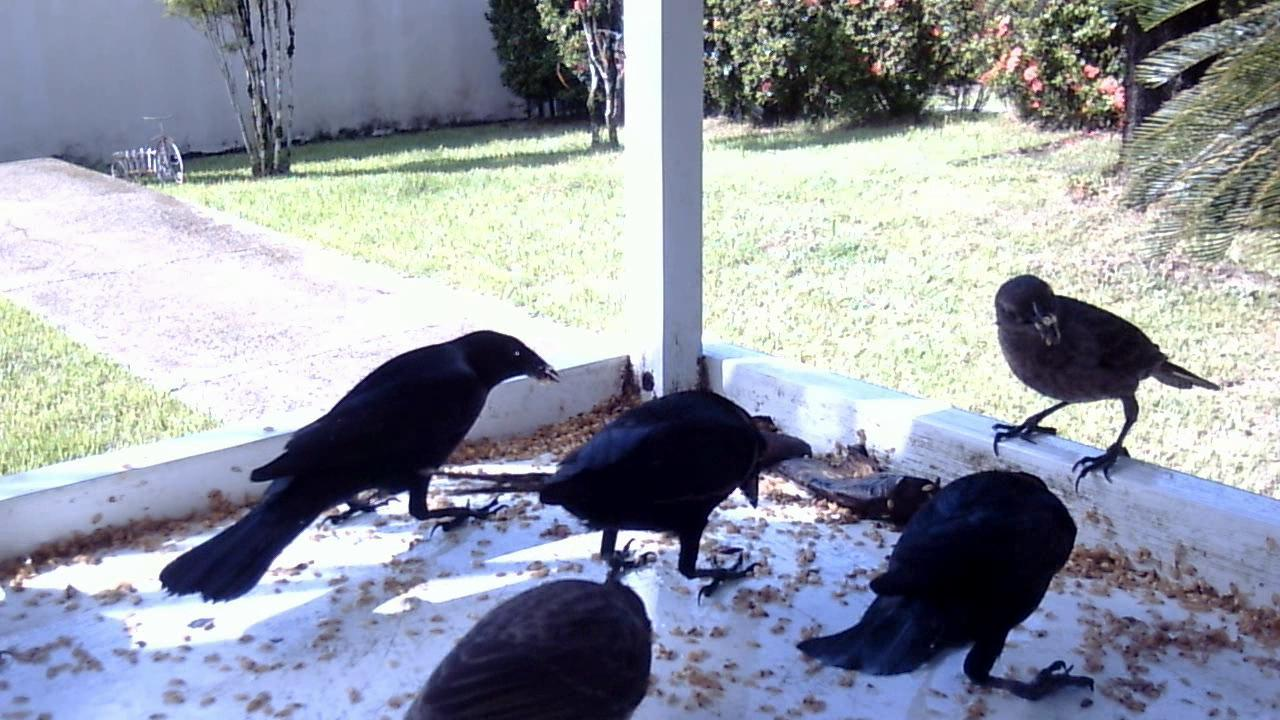chupim: (149, 315, 570, 611), (794, 453, 1106, 720), (488, 379, 838, 612), (977, 269, 1224, 499), (386, 556, 665, 715)
